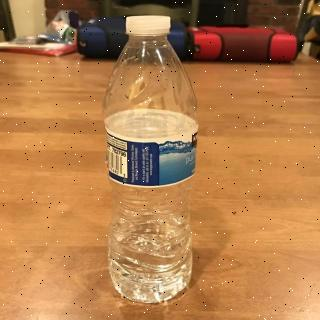Plastic-bottle: (98, 14, 204, 303)
